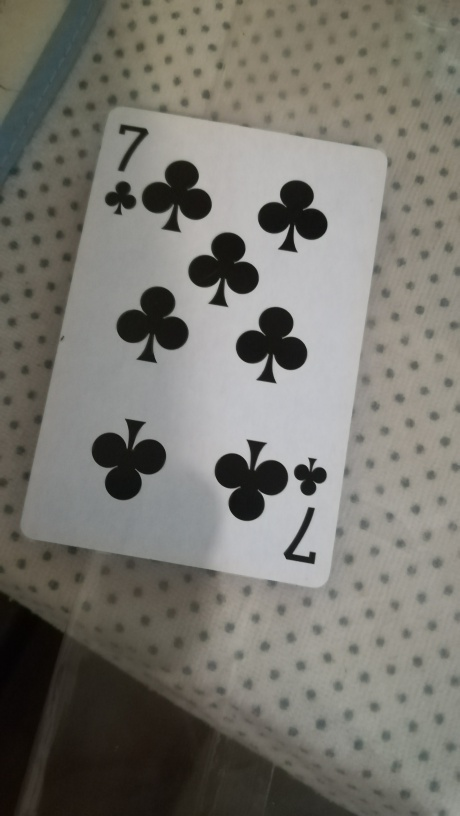mh 7: (22, 100, 390, 591)
